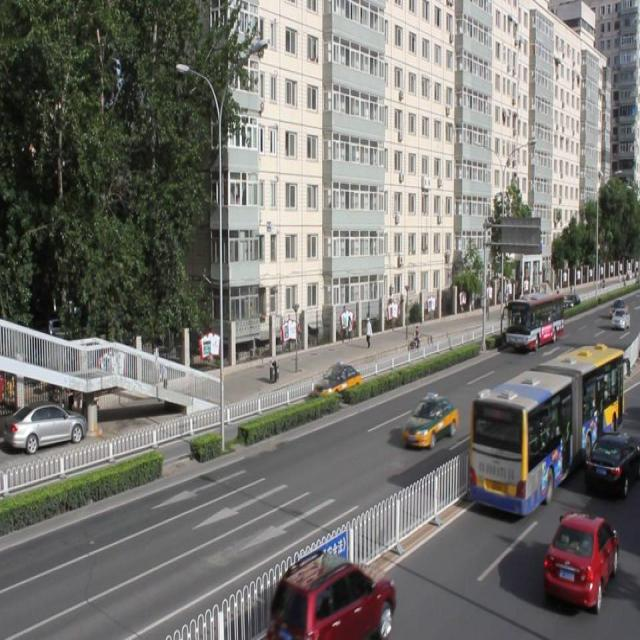car: (272, 552, 393, 640), (544, 510, 616, 609), (585, 428, 640, 493), (402, 392, 456, 449), (314, 362, 359, 399)
van: (469, 345, 622, 517)
